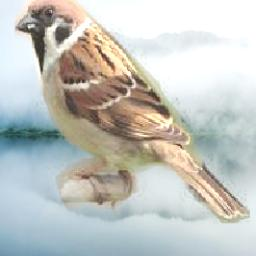Sparrow: (15, 0, 250, 223)
